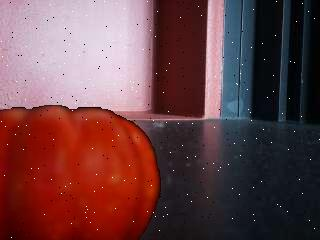Pumpkin: (0, 104, 159, 240)
